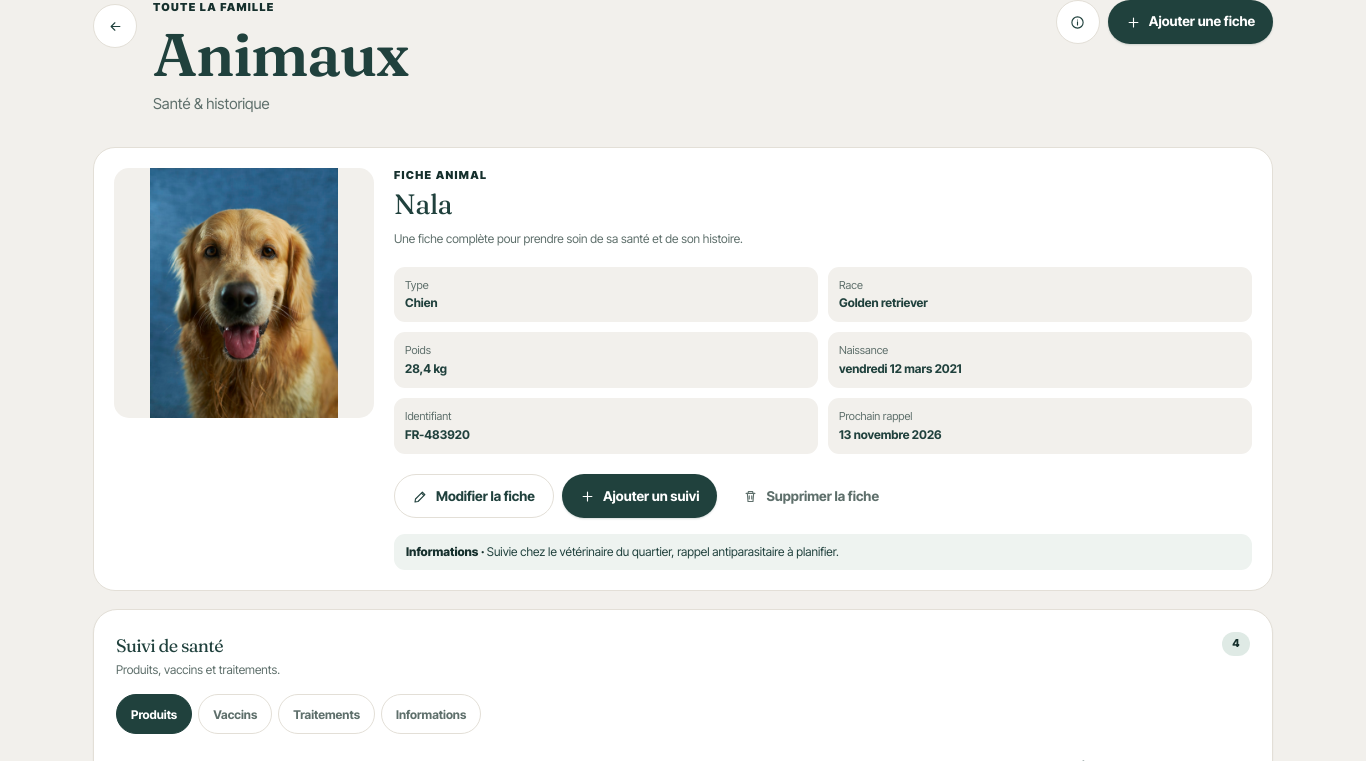
Test: AnimauxPage › refuse une échéance antérieure à la date du suivi
Click the button "Ajouter un suivi": point(640, 496) [562, 474, 718, 518]
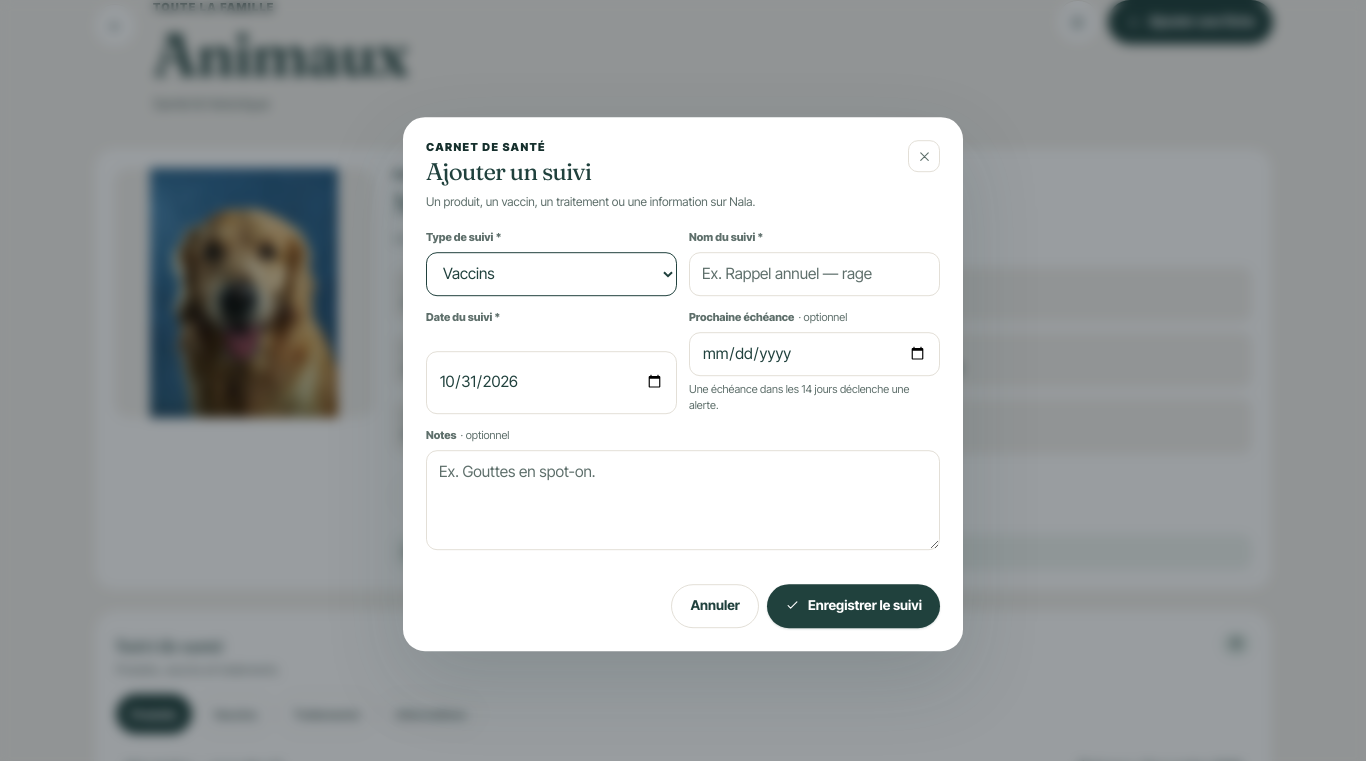
In the field labelled "Nom du suivi *": point(814, 274) [689, 252, 940, 296], type "Rappel à tester"
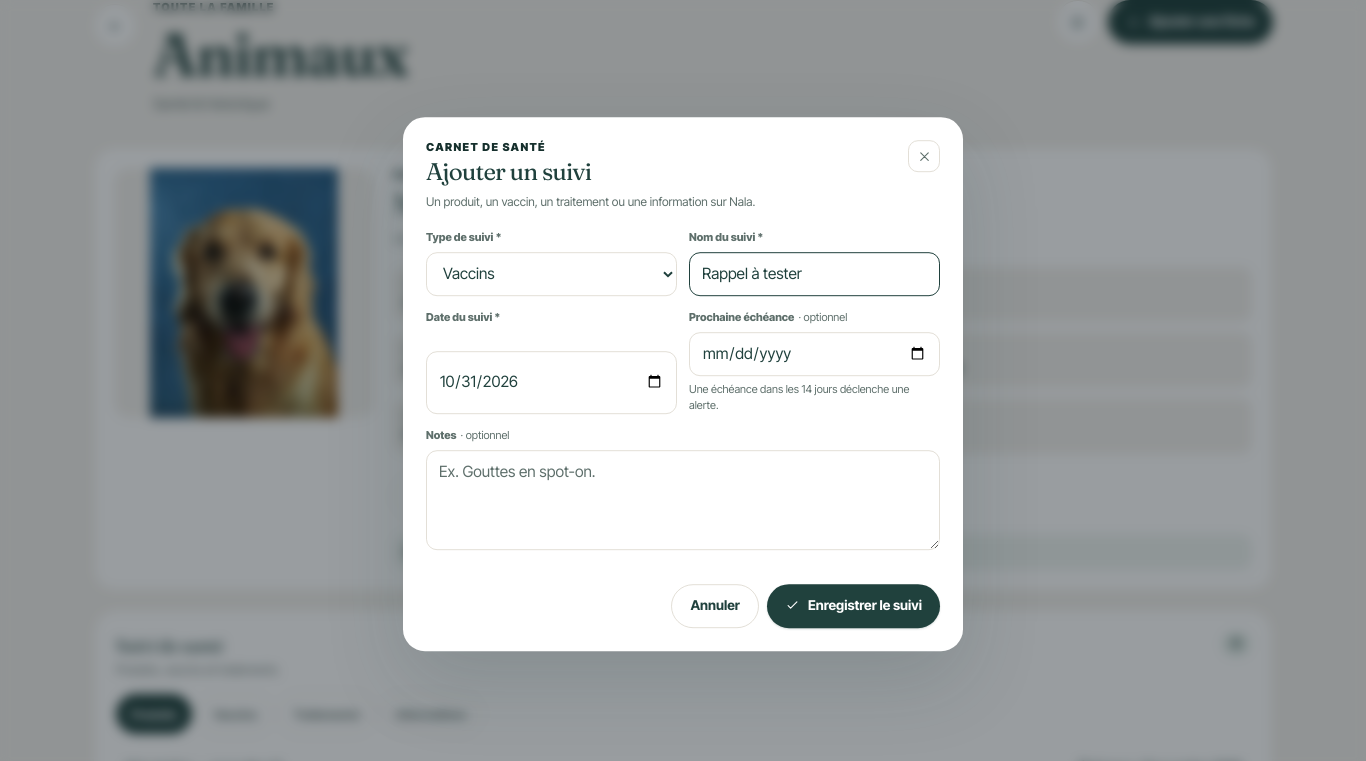
In the date field labelled "Date du suivi *": point(552, 382) [426, 351, 677, 414], type "2026-10-01"
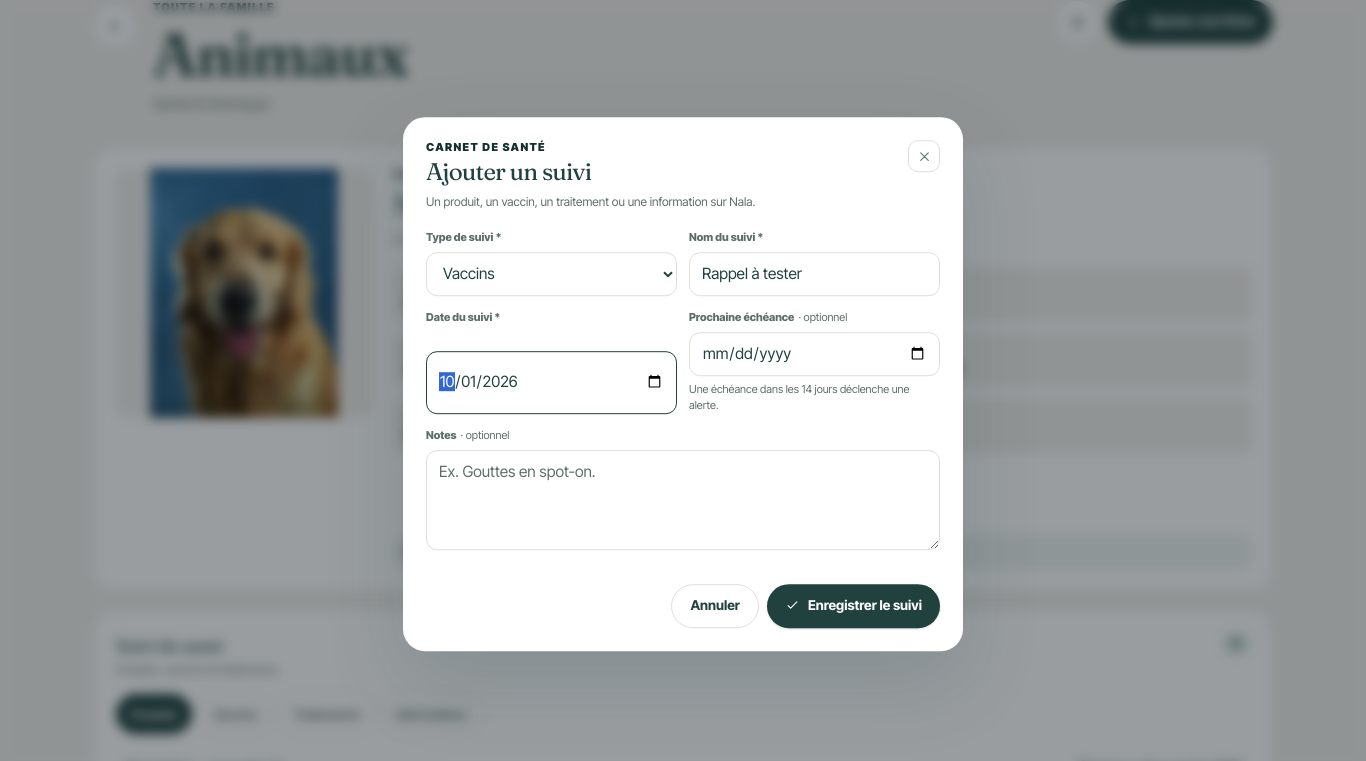
In the date field labelled "Prochaine échéance· optionnel": point(814, 354) [689, 332, 940, 376], type "2026-09-30"
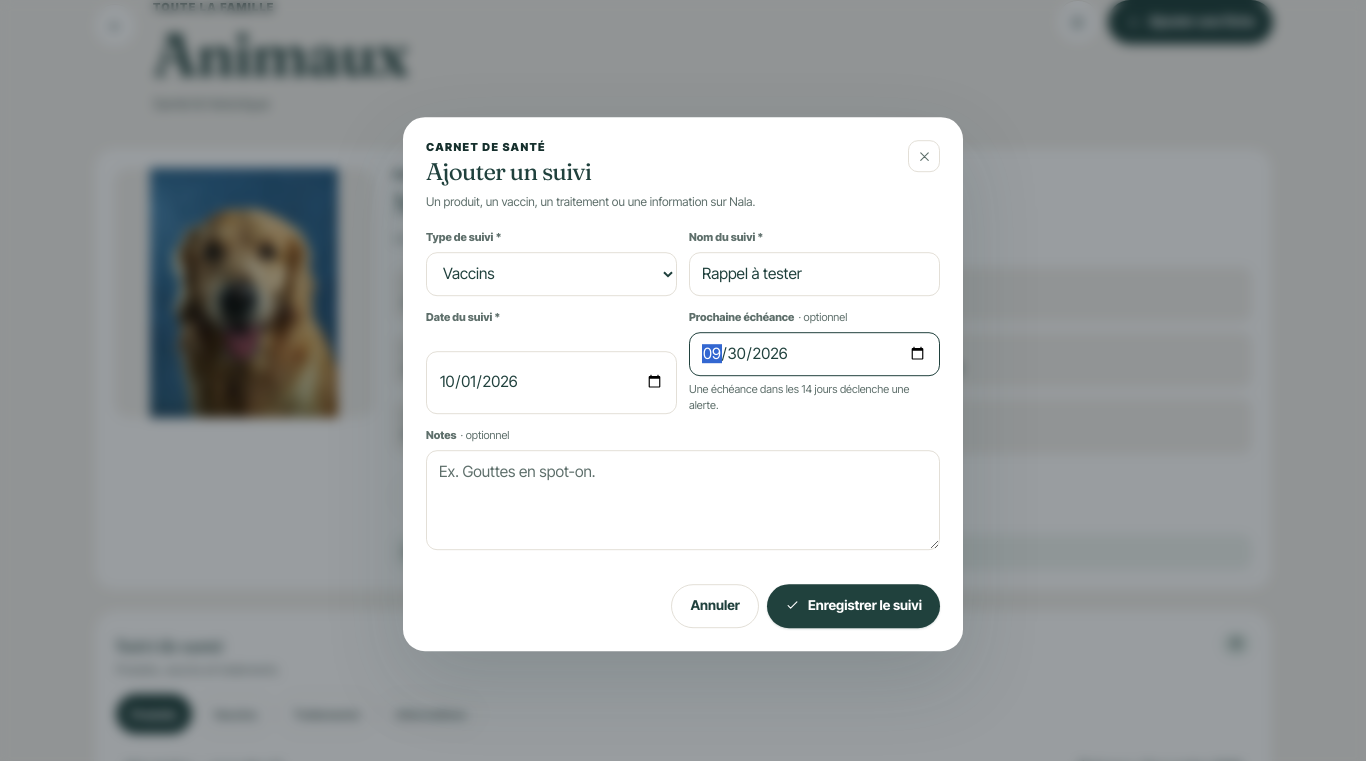
Click the button "Enregistrer le suivi": point(853, 606) [767, 584, 940, 628]
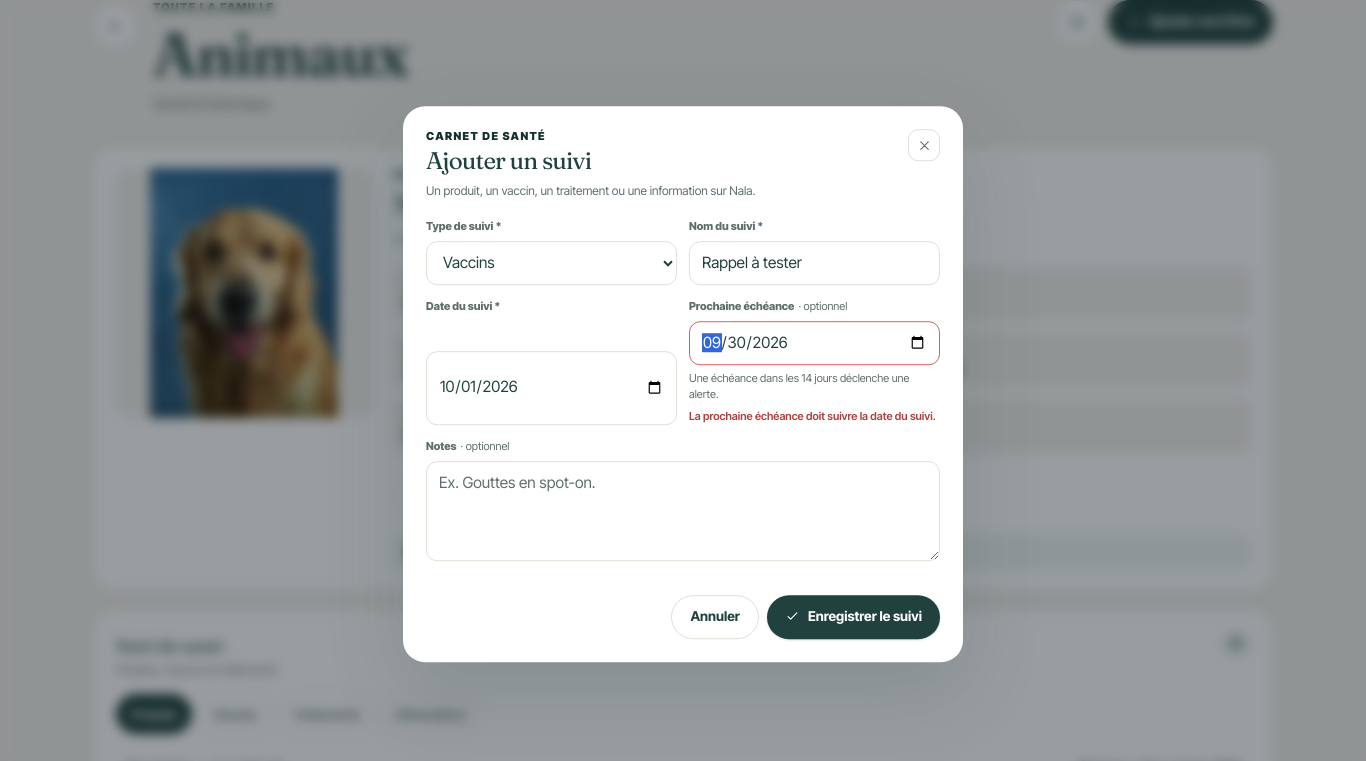
Now the text "La prochaine échéance doit suivre la date du suivi." is shown, box [689, 409, 940, 425]
